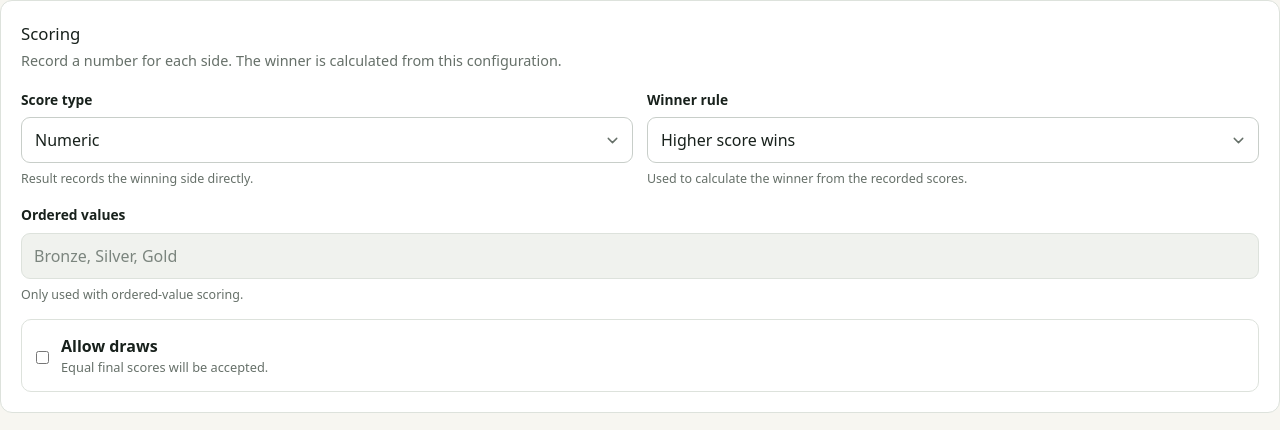
Scenario: CompetitionScoringFields › only requires ordered values when ordered scoring is selected
Expected: the field labelled "Ordered values Only used with ordered-value scoring." is disabled, [21, 233, 1259, 279]
Click the dropdown named "Score type": click(67, 140) [21, 117, 633, 163]
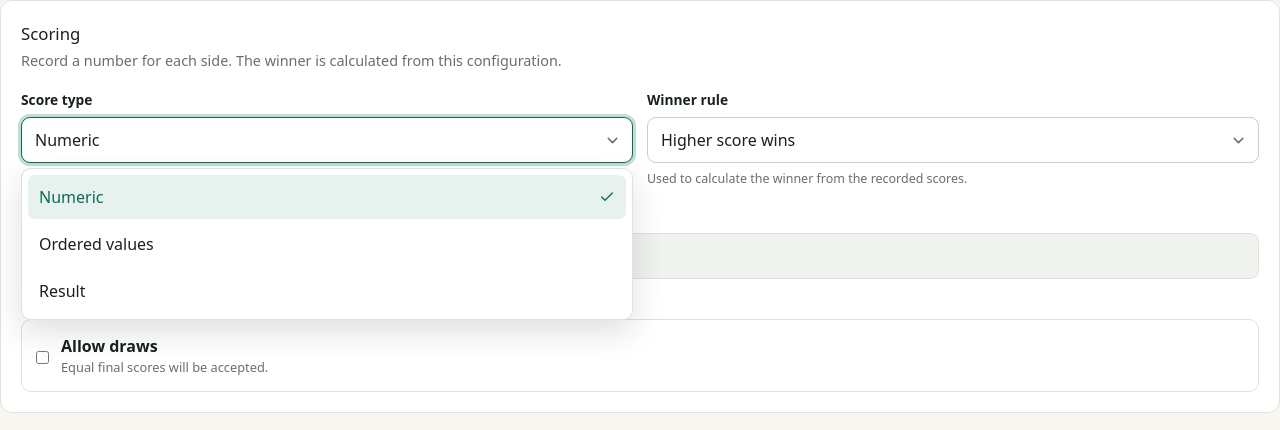
Click the option "Ordered values": click(96, 244) [28, 222, 626, 266]
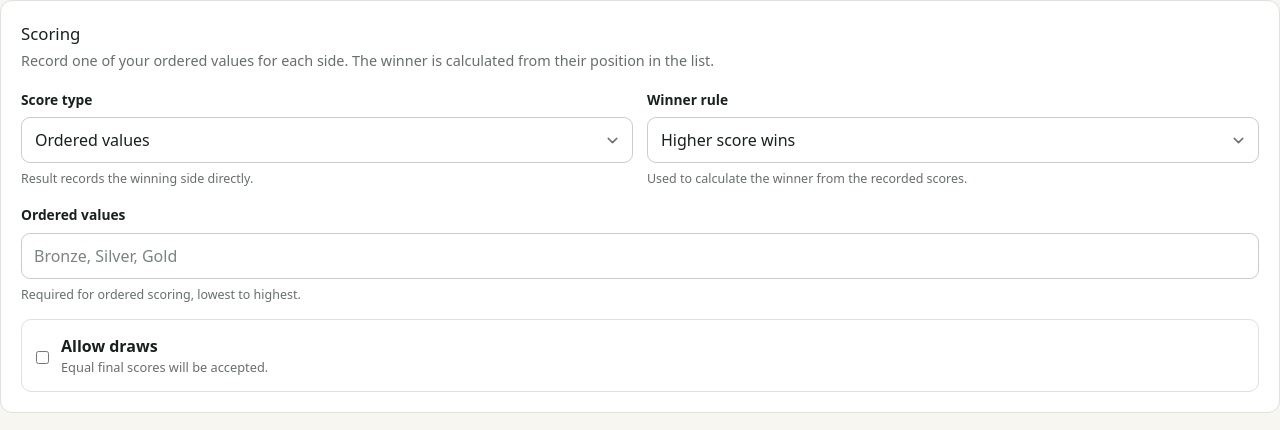
Expected: the field labelled "Ordered values" is enabled, [21, 233, 1259, 279]
Expected: the text "position in the list" is shown, [21, 51, 714, 70]
